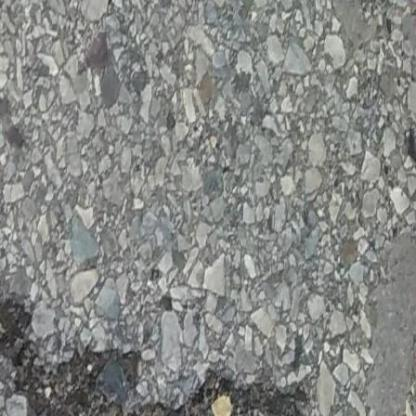Cracks: (0, 286, 325, 416)
